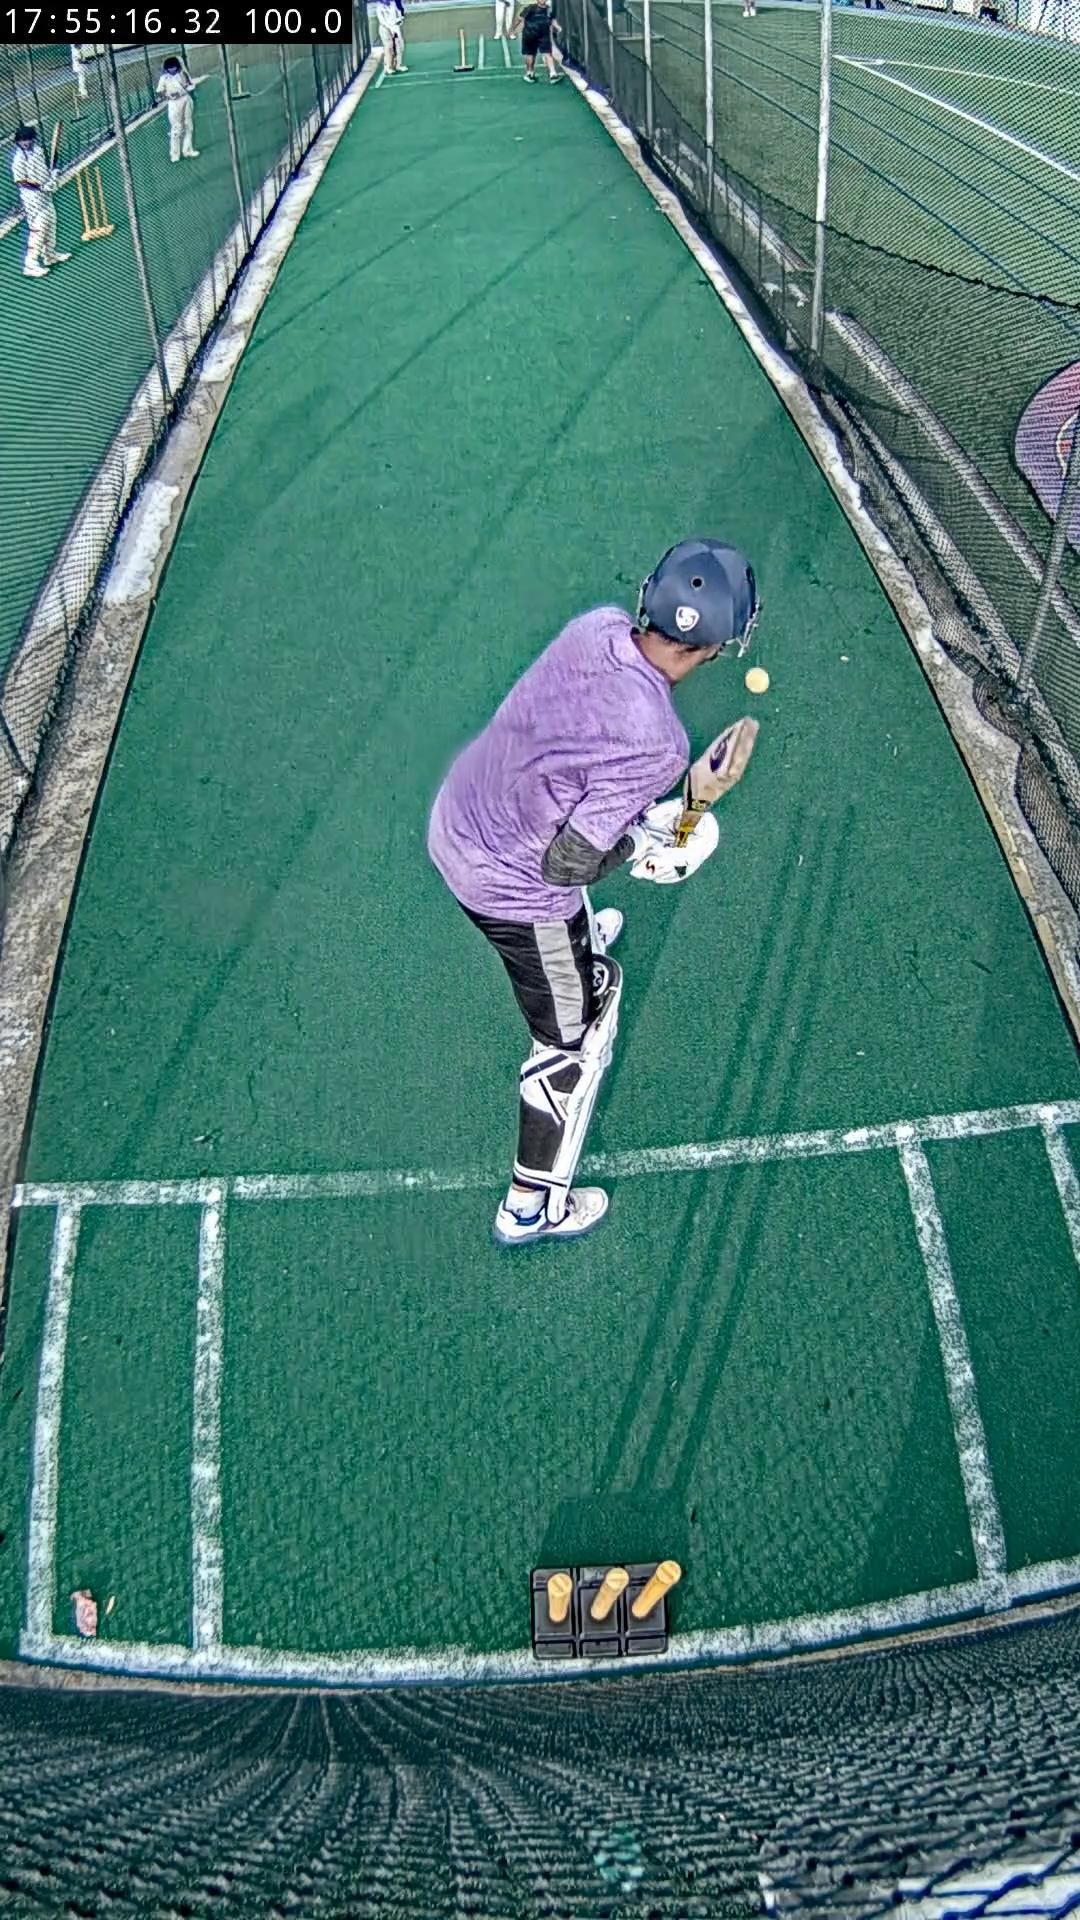ball: (746, 667, 769, 694)
bat: (675, 716, 757, 845)
gloves: (630, 799, 720, 885)
helmet: (637, 537, 757, 650)
pads: (546, 953, 624, 1229)
stumps: (533, 1560, 683, 1662)
